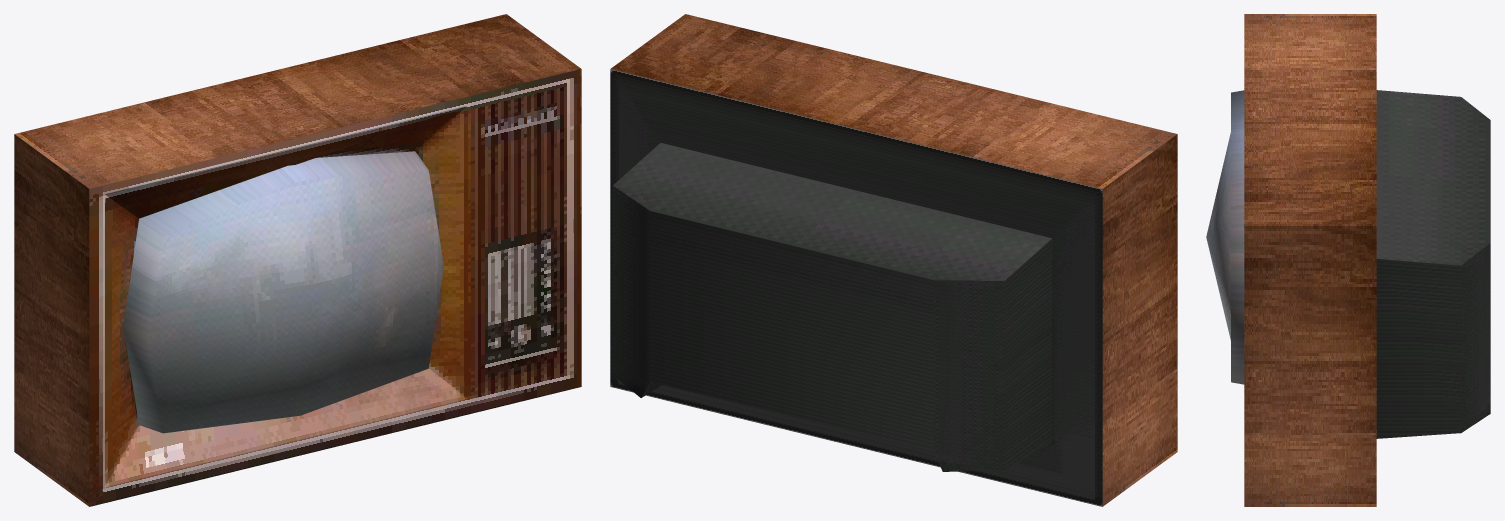
Rendered from ps1_style_tv.glb.
3 views of the same model, side by side, from view 1: azimuth 30°, elevation 25°; view 2: azimuth 150°, elevation 25°; view 3: azimuth 270°, elevation 25° (orthographic). The views are drawn at different scales.
Parts seen in each view (by area): view 1: Cube; view 2: Cube; view 3: Cube.
Part boxes in pixels (x1,y1,x2,y2): Cube: (14,14,581,506); Cube: (610,14,1177,506); Cube: (1206,14,1490,506).
Size of the model in its own units: 2.91 by 1.8 by 1.65.
1 material, 1 textured.
